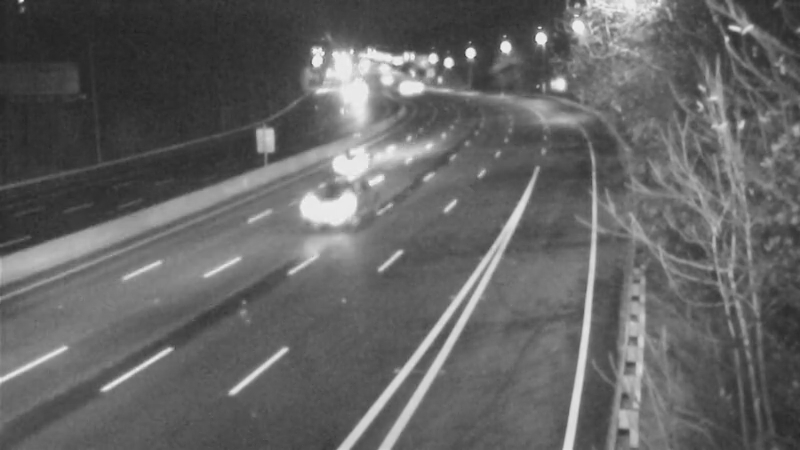vehicle: (313, 119, 393, 199), (287, 169, 367, 249)
